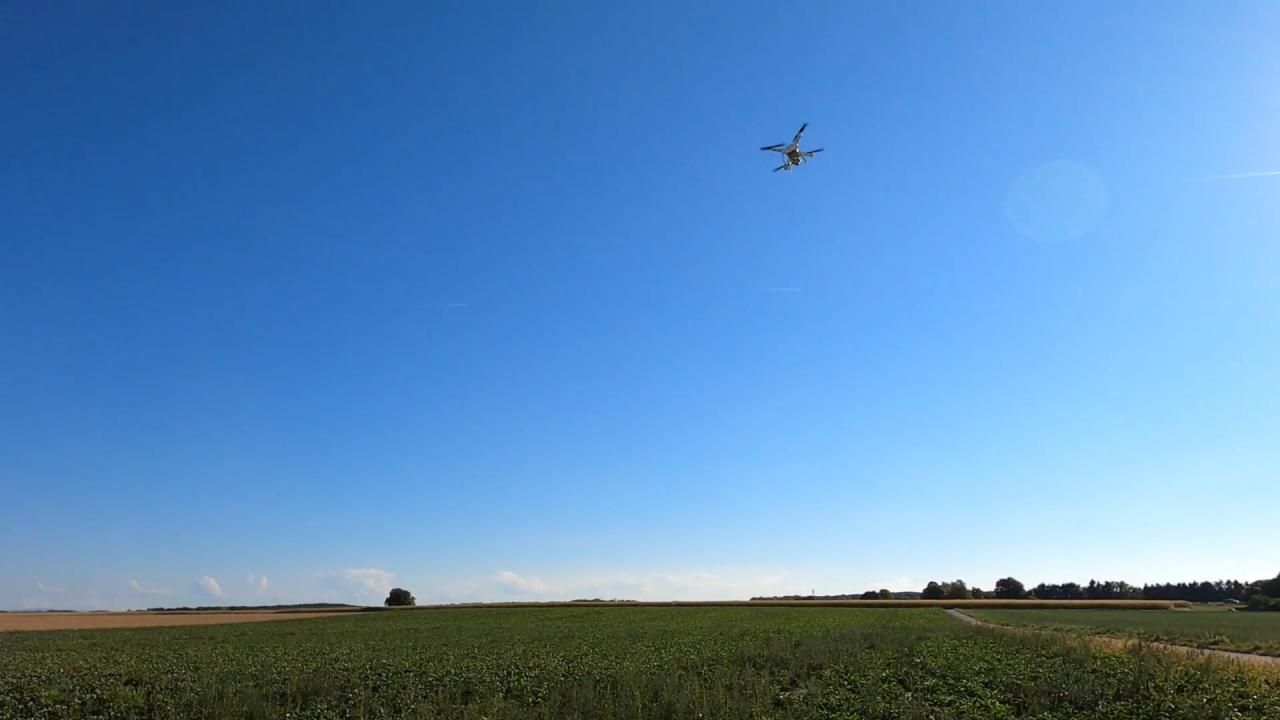Drone: (755, 118, 829, 184)
